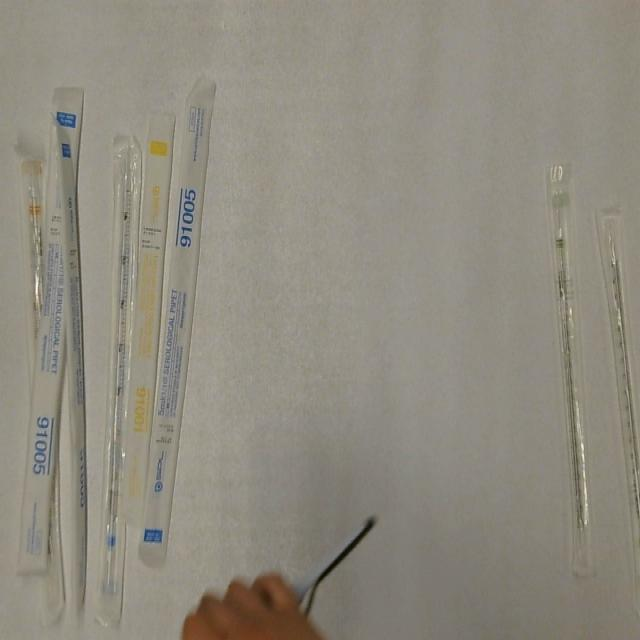Serelogical Pipet 1 mL - Sealed: (116, 110, 178, 530)
Serelogical Pipet 10 mL - Sealed: (14, 139, 51, 394)
Serelogical Pipet 2 mL - Sealed: (543, 159, 600, 584)
Serelogical Pipet 5 mL - Sealed: (136, 75, 220, 568), (14, 80, 87, 578), (92, 133, 145, 627), (52, 109, 88, 622)
Single Channel Pipettor: (273, 511, 382, 616)
